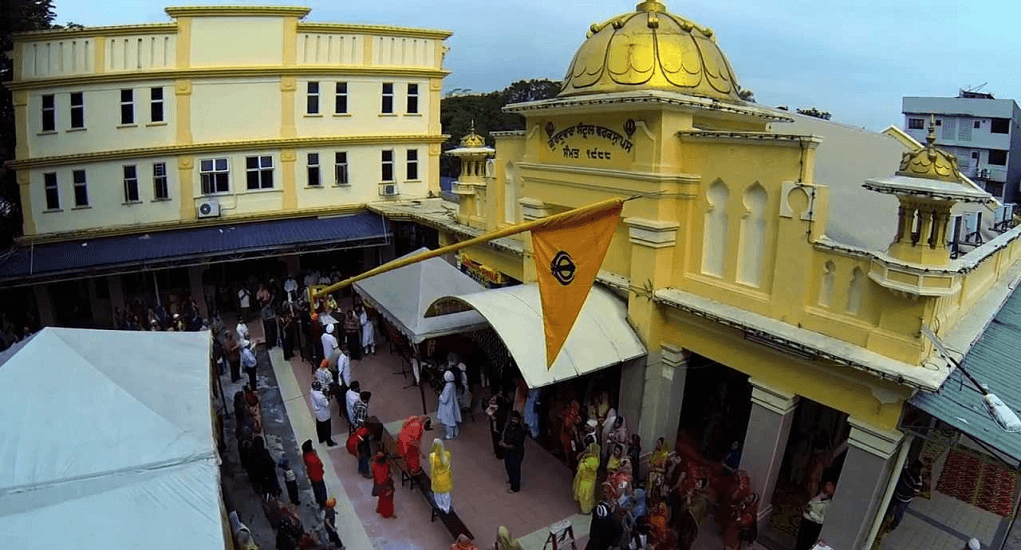Gurdwara: (437, 8, 994, 514)
